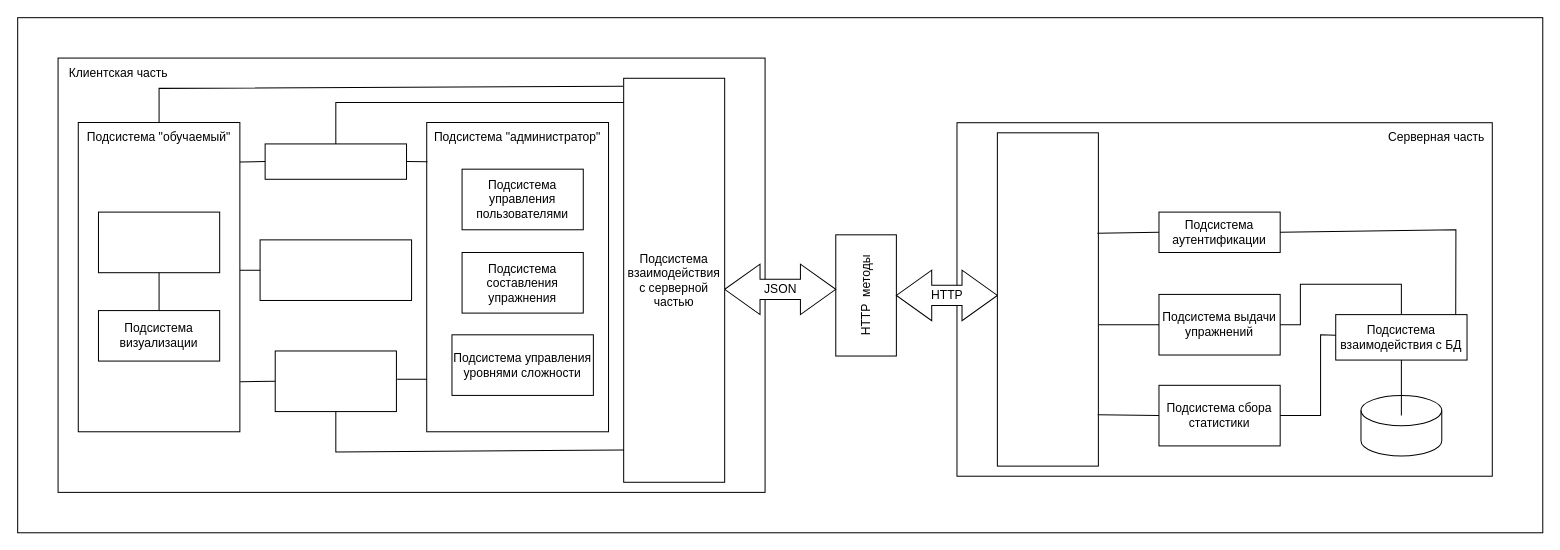
This 1560x550 diagram has some shape labels left out. The shapes that lost their labels are listed below. From the top down, each one's centre as x and y in pixels, then its label:
the point at 335,161: Подсистема авторизации
the point at 158,242: Подсистема выполнения упражнения
the point at 335,269: Справочная подсистема
the point at 1047,299: Подсистема взаимодействия с клиентской частью
the point at 335,381: Подсистема просмотра статистики
the point at 1401,425: БД
